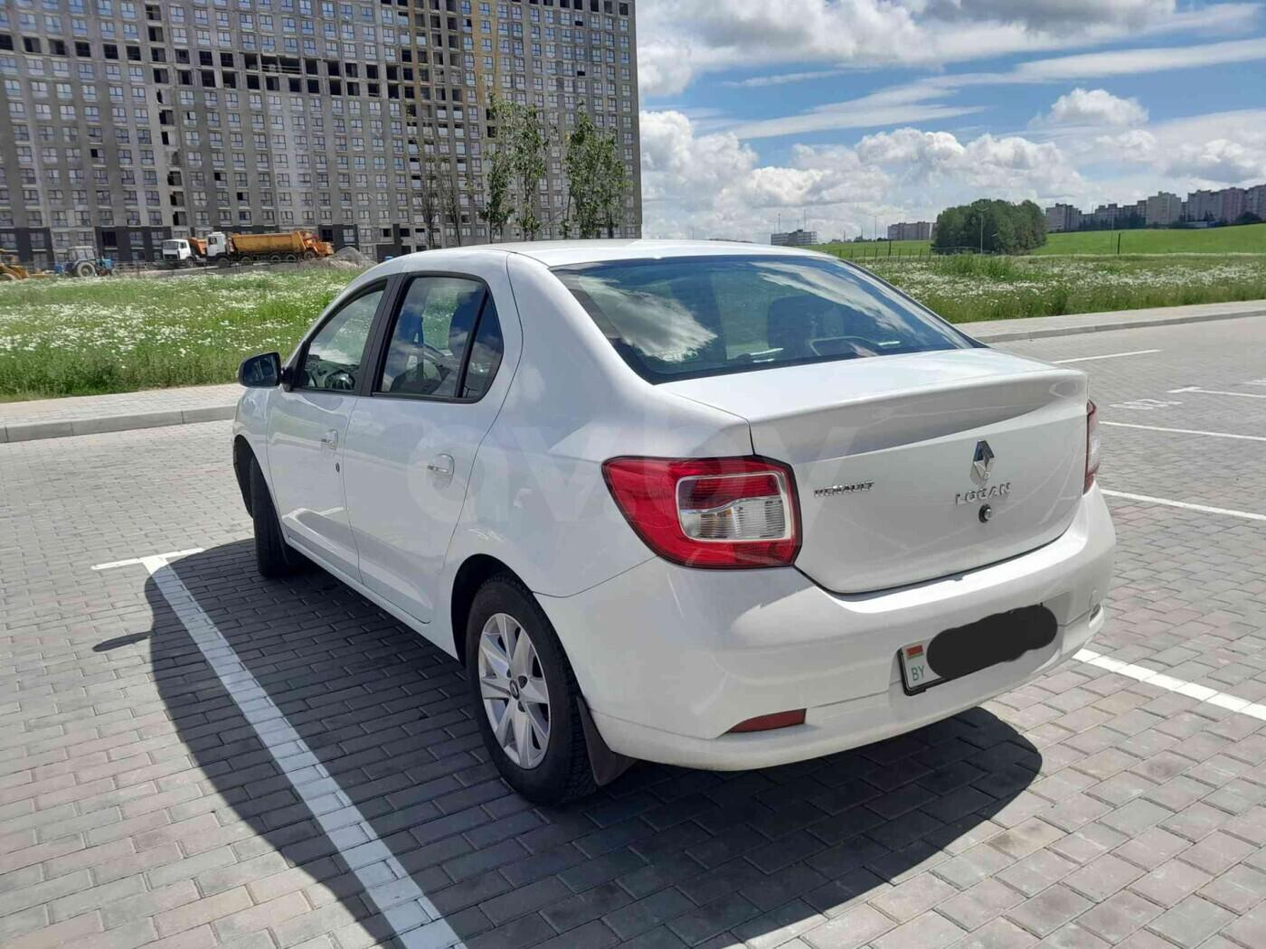Logan_2013-2018: (231, 230, 1125, 802)
